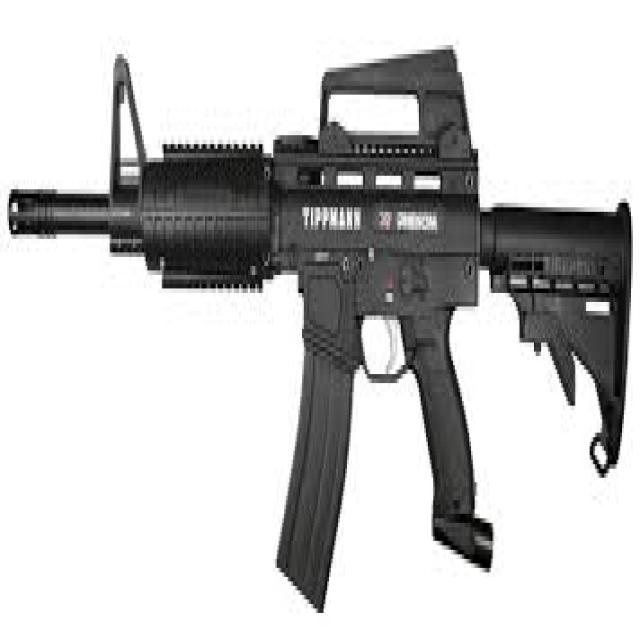rifle: (4, 37, 640, 637)
